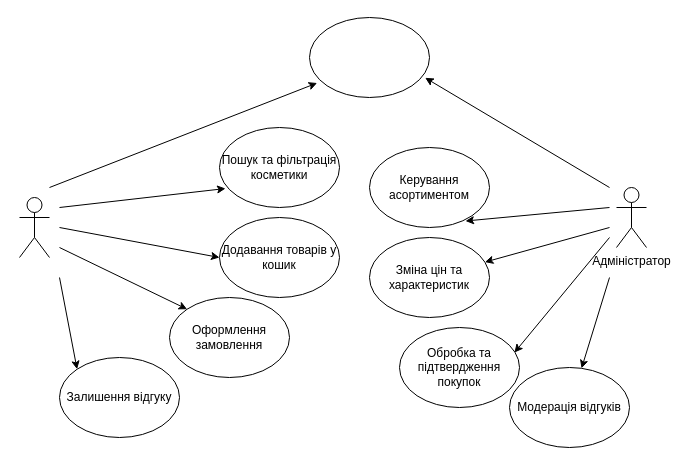
This 688x465 diagram has some shape labels left out. The shapes that lost their labels are listed below. From the top down, each one's centre as x and y in pixels, then its label:
At point 369,57: "Перегляд каталогу товарів".
At point 34,227: "Клієнт".
